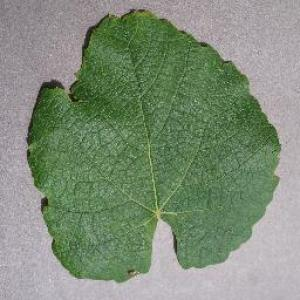Folha: (25, 8, 281, 282)
